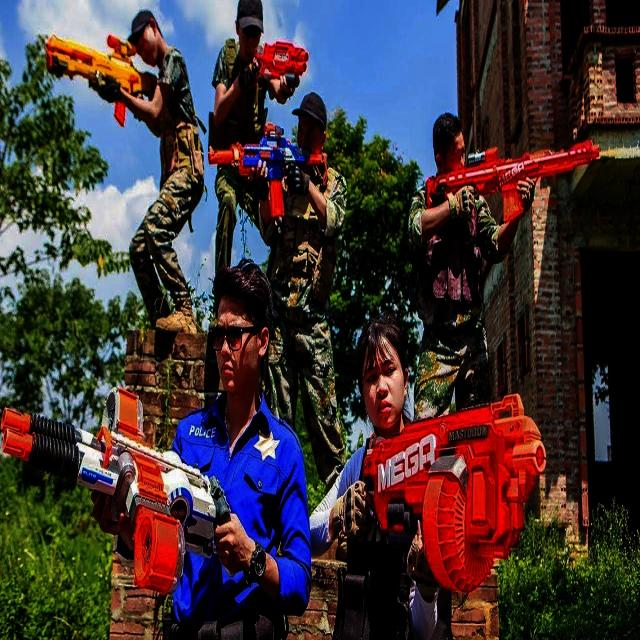Nerf gun: (0, 378, 231, 598), (359, 384, 549, 597), (419, 130, 600, 236), (203, 119, 329, 229), (38, 28, 163, 127), (247, 37, 310, 96)
